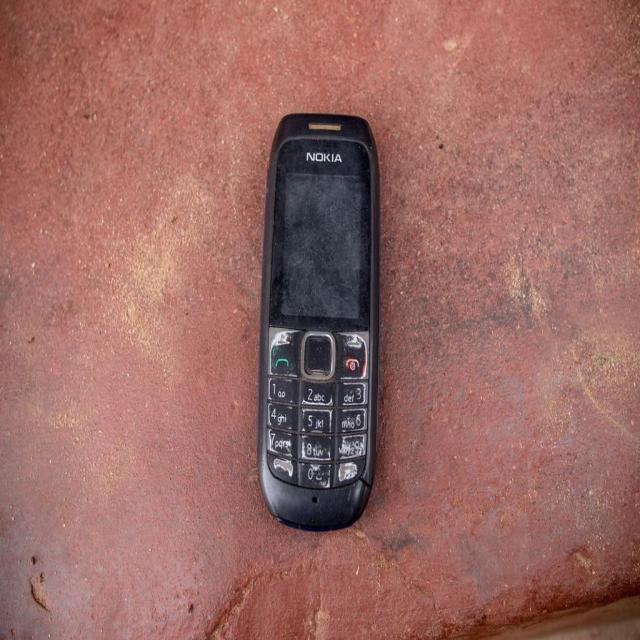Phone: (258, 108, 382, 530)
